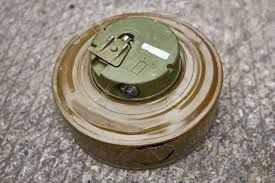car: (39, 5, 243, 172)
